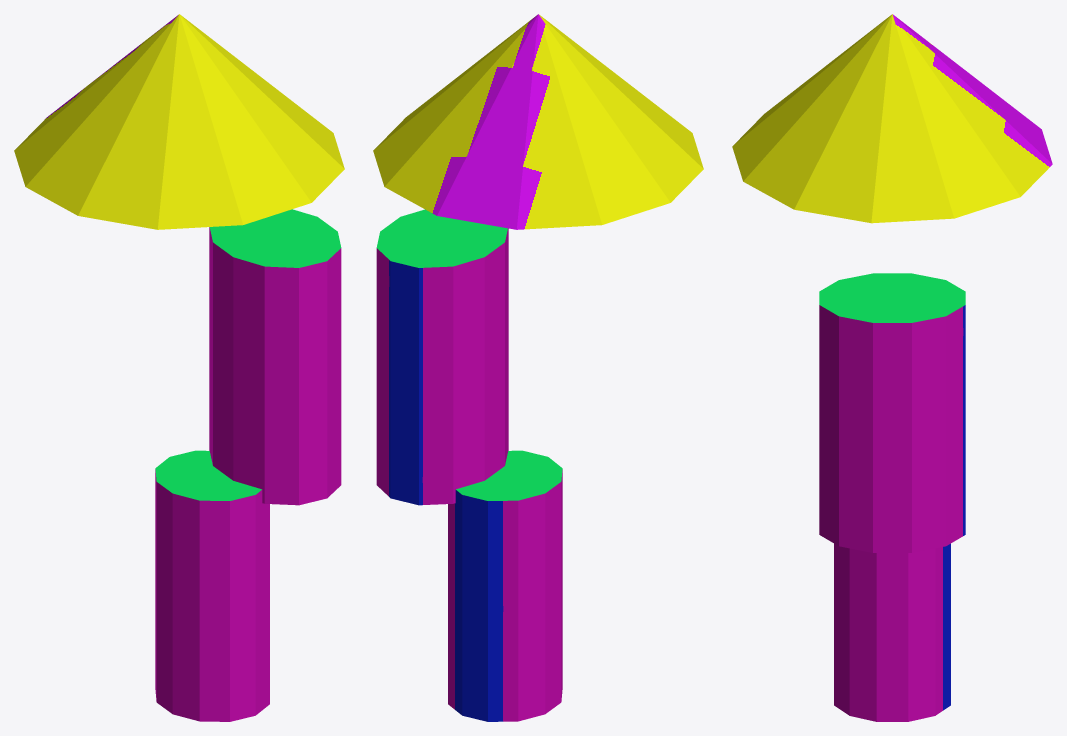
The model's file is test_armor.glb.
3 renders of one model, left to right at view 1: azimuth 30°, elevation 25°; view 2: azimuth 150°, elevation 25°; view 3: azimuth 270°, elevation 25°, orthographic. The views are drawn at different scales.
Parts seen in each view (by area): view 1: hat, rightArm, rightLeg; view 2: hat, rightArm, rightLeg; view 3: hat, rightArm, rightLeg.
Boxes of the visible parts, x1,y1,x2,y2 form: hat: (14, 14, 344, 229); rightArm: (209, 209, 341, 505); rightLeg: (155, 450, 269, 721); hat: (373, 14, 703, 229); rightArm: (376, 209, 508, 505); rightLeg: (448, 450, 562, 721); hat: (732, 14, 1052, 223); rightArm: (819, 273, 965, 552); rightLeg: (834, 543, 950, 721).
Size of the model in its own units: 1.04 by 2.37 by 1.03.
Materials: 1 (1 with a texture image).
